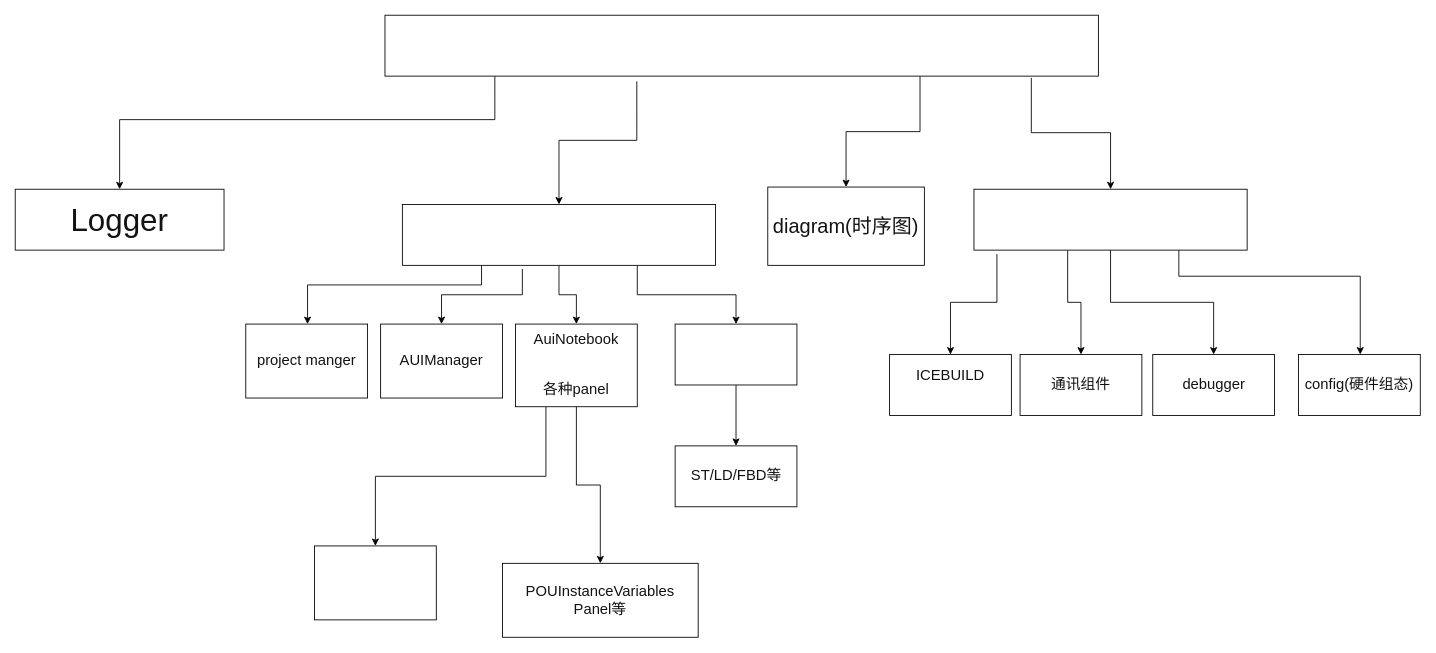
This 1436x653 diagram has some shape labels left out. The shapes that lost their labels are listed below. From the top down, each one's centre as x and y in pixels, then its label:
At [741,45]: "MainForm".
At [559,234]: "IDEFrame".
At [1110,219]: "ProjectControl (mainFrom,logger)".
At [735,354]: "Viewer".
At [375,582]: "LibraryPanel".
